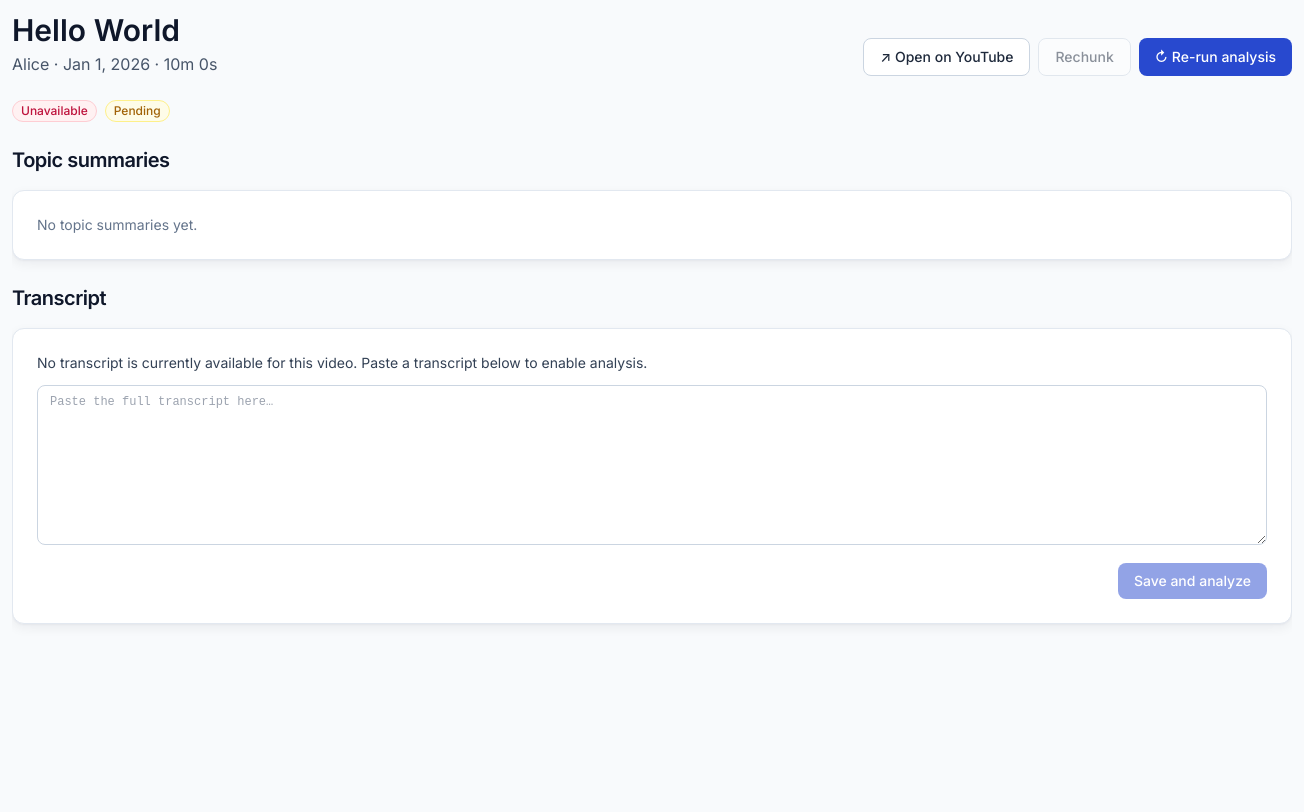
Test: VideoDetailPage branch arms › shows a save error when the manual transcript POST fails
The width and height of the screenshot is (1304, 812).
Check: the heading "Hello World" is shown, box [12, 12, 180, 48]
Type "this is a manual transcript paste body" into the text box labelled "Paste the full transcript here…" at (652, 465), box [37, 385, 1267, 545]
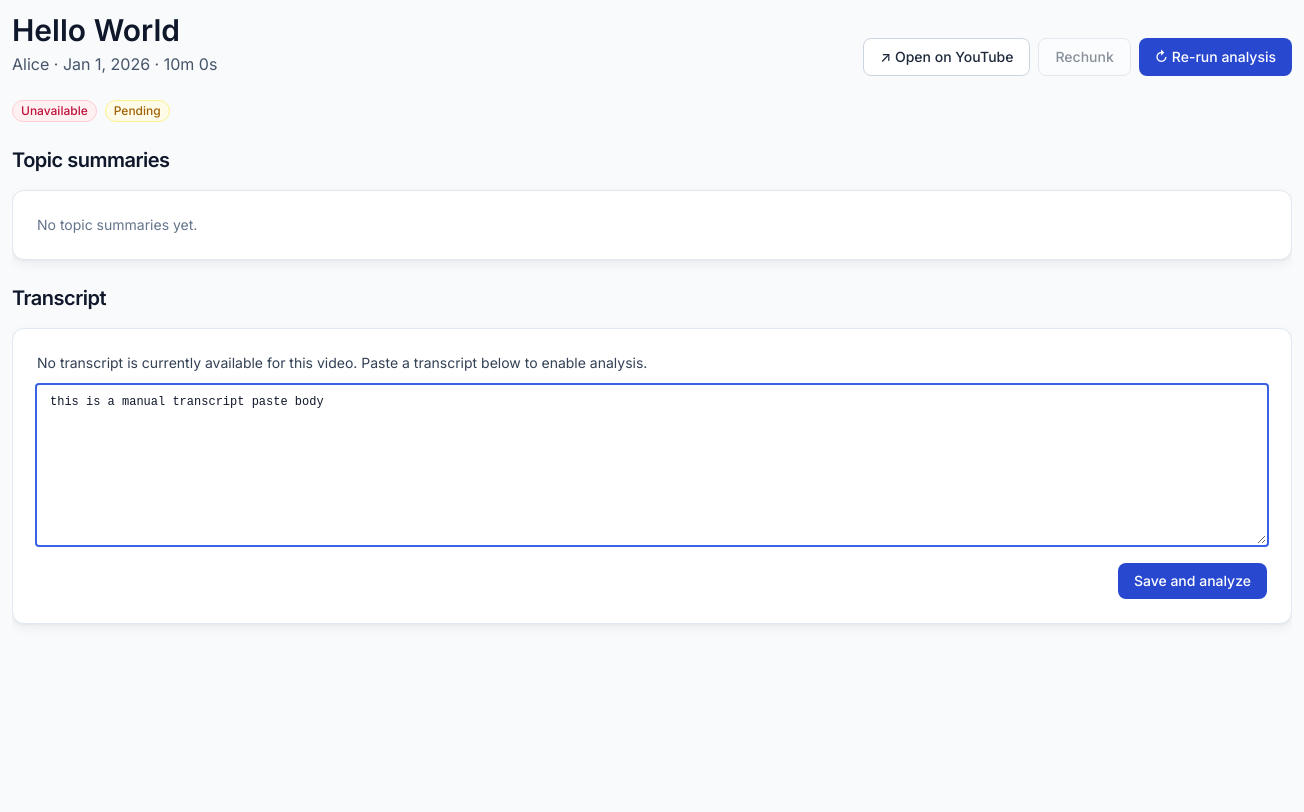
Click the button "Save and analyze" at (1192, 581), box [1118, 563, 1267, 599]
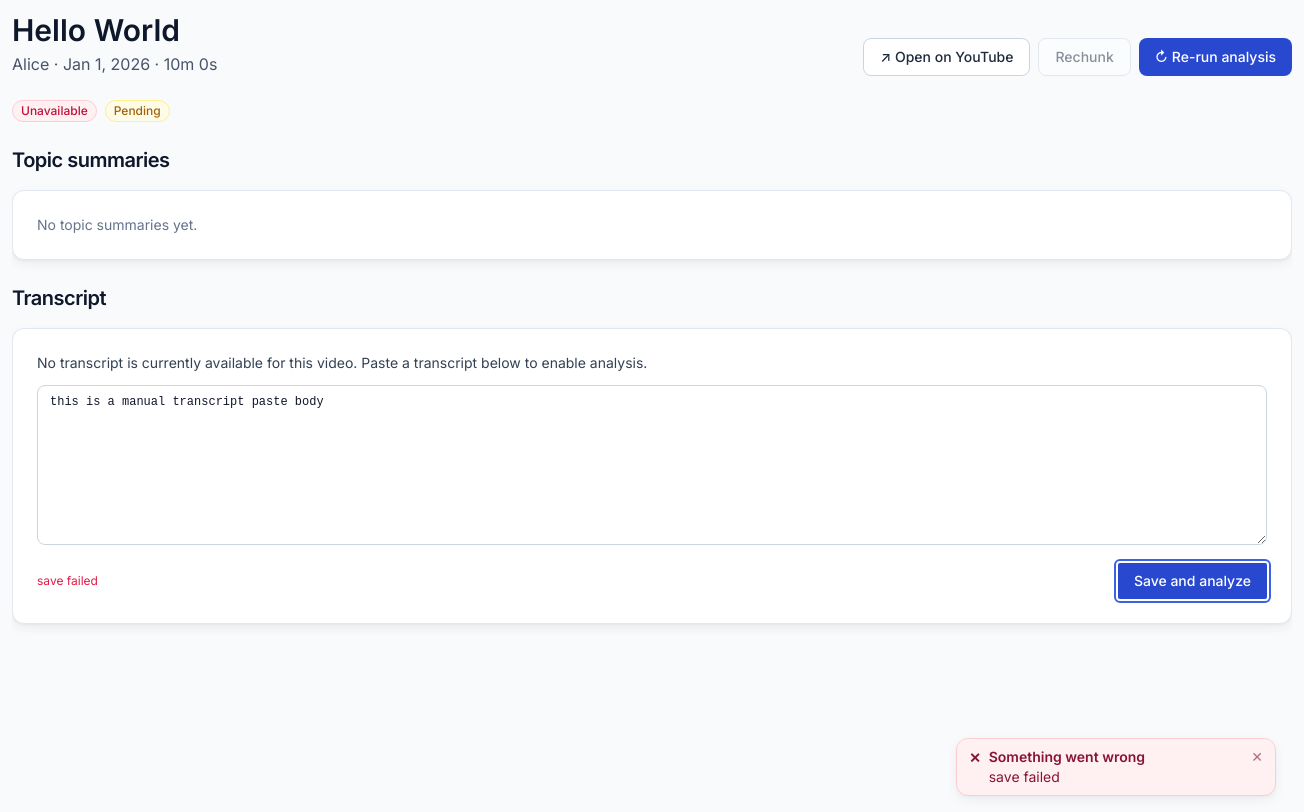
Check: the 1st text "save failed" is shown, box [37, 573, 98, 589]
